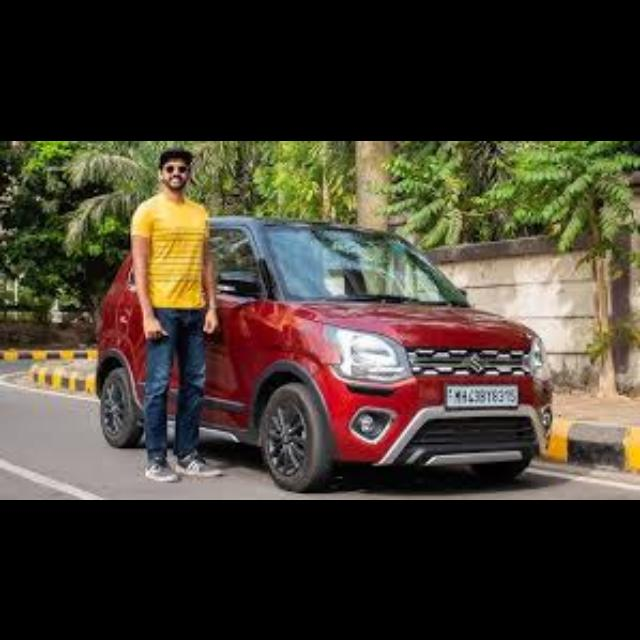vehicles: (92, 209, 546, 489)
